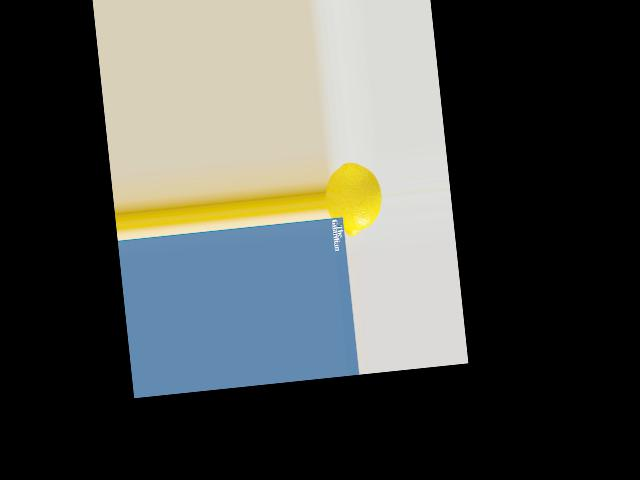lemon: (321, 155, 385, 243)
